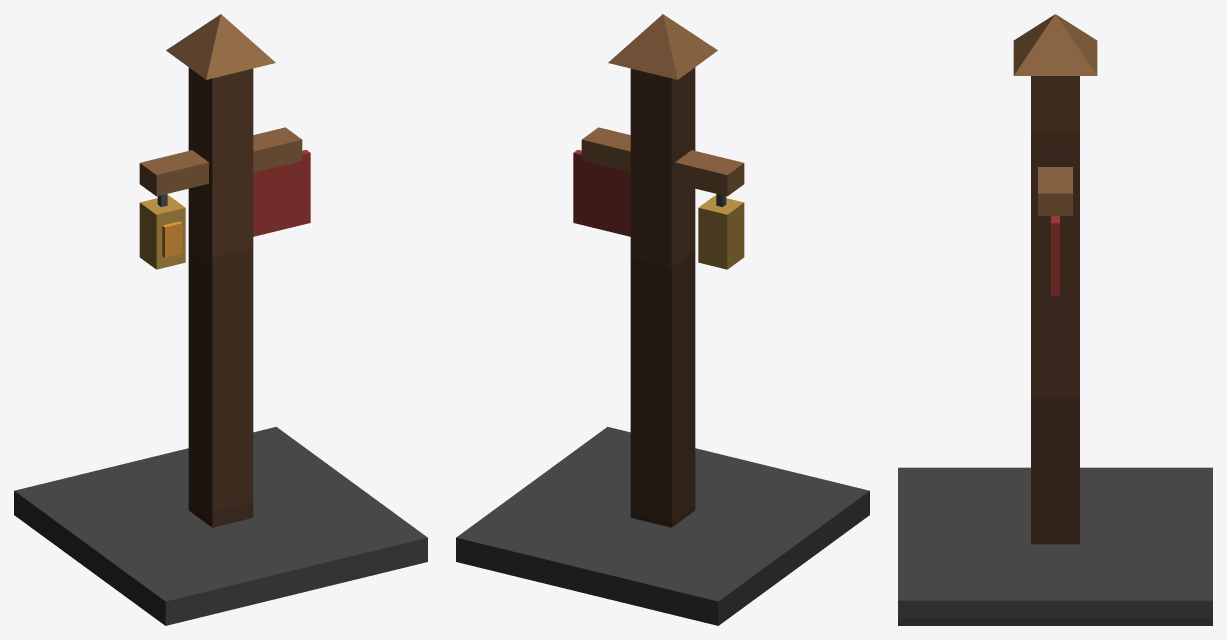
The model's file is guard_post.glb.
3 renders of one model, left to right at view 1: azimuth 30°, elevation 25°; view 2: azimuth 150°, elevation 25°; view 3: azimuth 270°, elevation 25°, orthographic. The views are drawn at different scales.
Size of the model in its own units: 0.9 by 1.72 by 0.9.
1 material, 1 textured.
